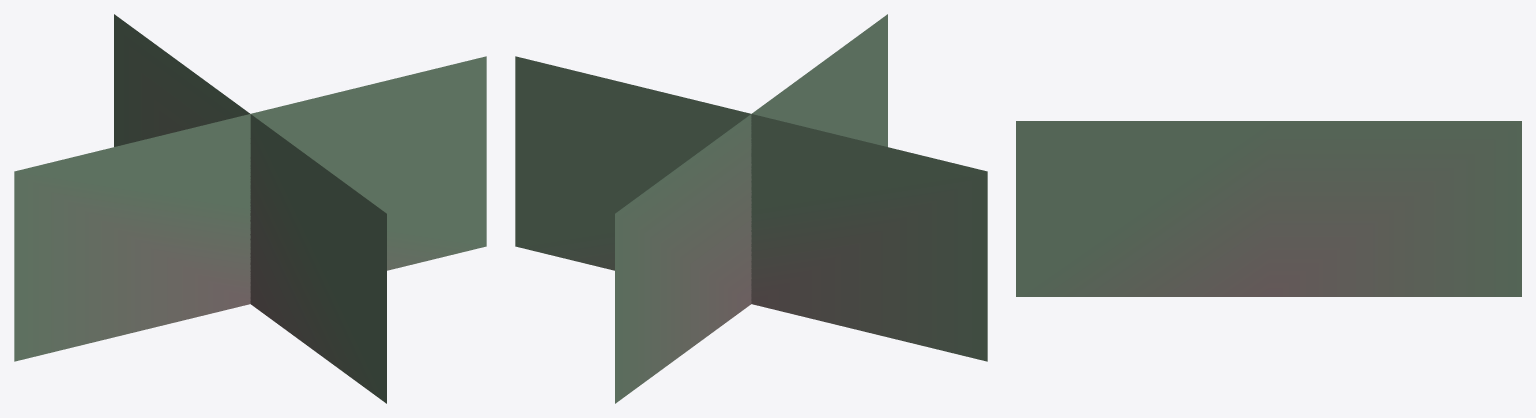
Rendered from tree-small.glb.
3 renders of one model, left to right at view 1: azimuth 30°, elevation 25°; view 2: azimuth 150°, elevation 25°; view 3: azimuth 270°, elevation 25°, orthographic. The views are drawn at different scales.
Visible parts, largest first — view 1: tree-small; view 2: tree-small; view 3: tree-small.
Boxes of the visible parts, bbox=[...] form: tree-small: bbox=[14, 14, 486, 403]; tree-small: bbox=[515, 14, 987, 403]; tree-small: bbox=[1016, 121, 1521, 296].
Bounding box in the file's own units: 0.78 × 0.3 × 0.78.
